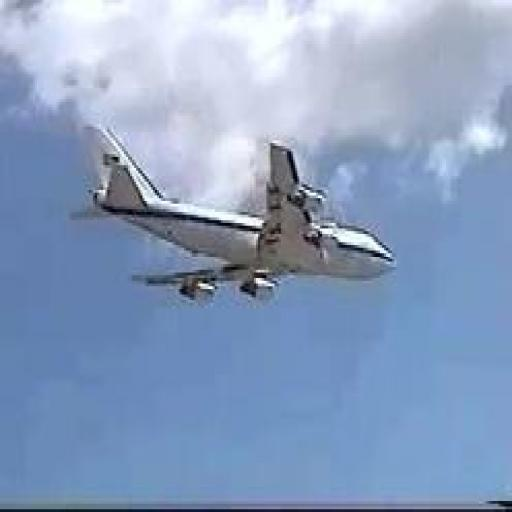aircraft: (70, 124, 396, 305)
